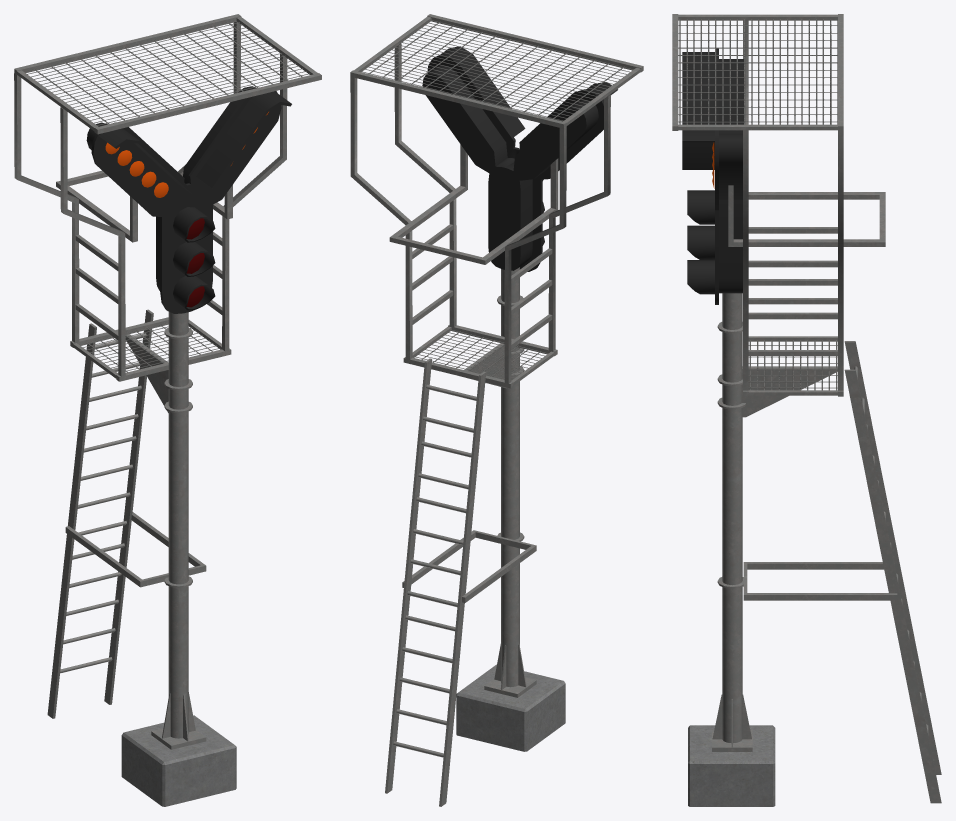
The model's file is rail_signalgantry_sml_E.fbx.
The picture shows the model from 3 angles, left to right: view 1: azimuth 30°, elevation 25°; view 2: azimuth 150°, elevation 25°; view 3: azimuth 270°, elevation 25°; orthographic projection. The views are drawn at different scales.
Parts seen in each view (by area): view 1: rail_signalgantry_sml_E; view 2: rail_signalgantry_sml_E; view 3: rail_signalgantry_sml_E.
Boxes of the visible parts, x1=… form: rail_signalgantry_sml_E: x1=14, y1=14, x2=321, y2=806; rail_signalgantry_sml_E: x1=350, y1=14, x2=643, y2=806; rail_signalgantry_sml_E: x1=672, y1=14, x2=941, y2=806.
Bounding box in the file's own units: 2.15 × 6.41 × 2.17.
